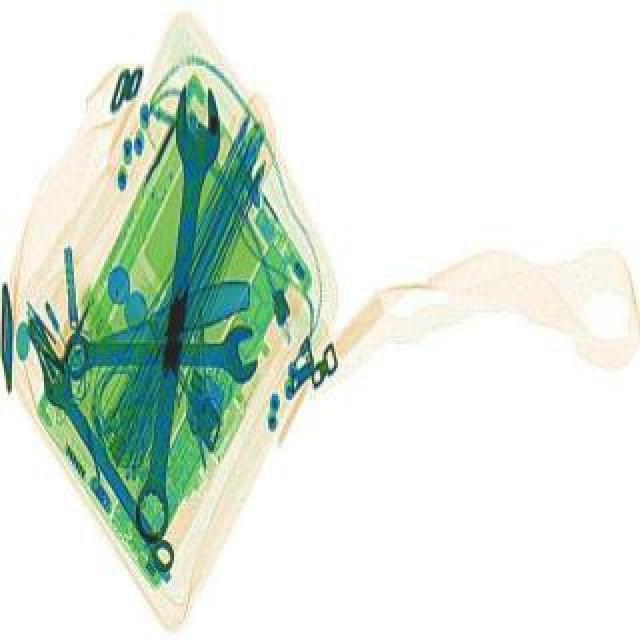knife: (46, 270, 258, 374)
scissors: (128, 84, 224, 540), (32, 360, 182, 574), (60, 322, 256, 388)
